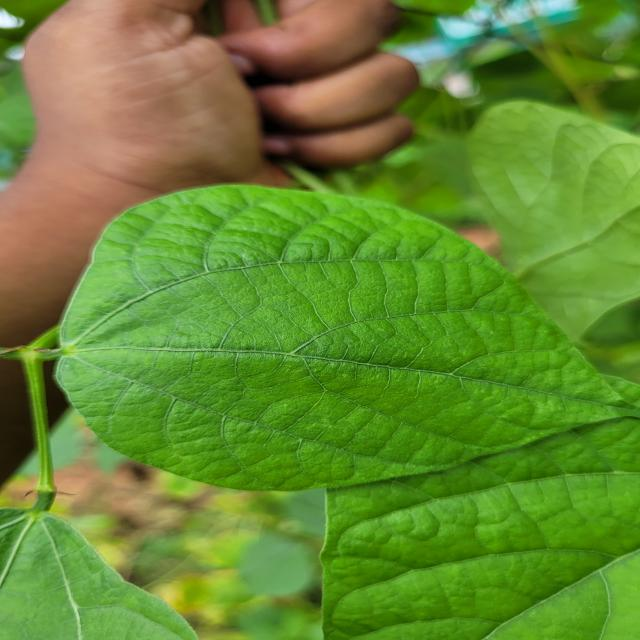Dolicos bean_healthy: (54, 186, 640, 494), (305, 481, 640, 640)
